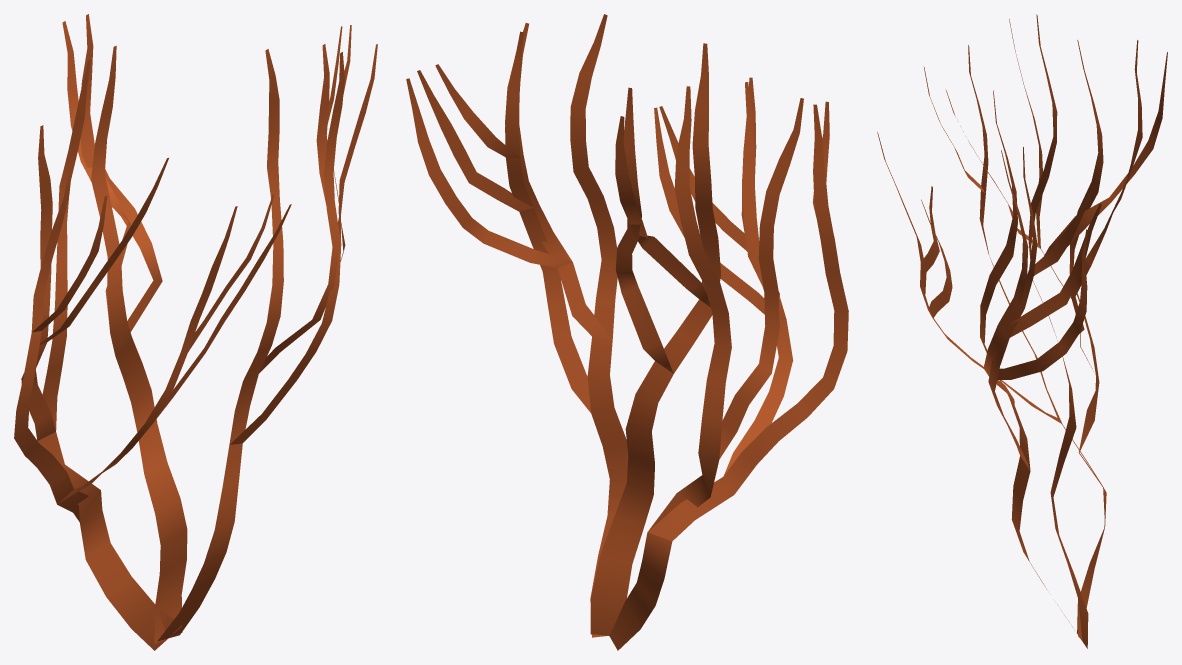
Rendered from coral_seagrass_D_raqam_light_flat.fbx.
3 views of the same model, side by side, from view 1: azimuth 30°, elevation 25°; view 2: azimuth 150°, elevation 25°; view 3: azimuth 270°, elevation 25° (orthographic). The views are drawn at different scales.
Parts seen in each view (by area): view 1: coral_seagrass_D_raqam_light_flat; view 2: coral_seagrass_D_raqam_light_flat; view 3: coral_seagrass_D_raqam_light_flat.
Boxes of the visible parts, x1=… form: coral_seagrass_D_raqam_light_flat: x1=14, y1=14, x2=377, y2=650; coral_seagrass_D_raqam_light_flat: x1=406, y1=14, x2=848, y2=650; coral_seagrass_D_raqam_light_flat: x1=877, y1=14, x2=1167, y2=648.
Size of the model in its own units: 85.82 by 127 by 55.48.
